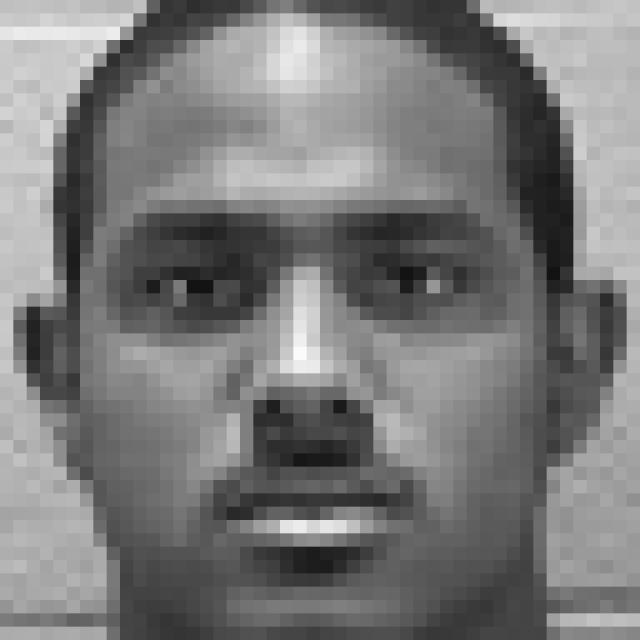neutral: (99, 188, 521, 585)
